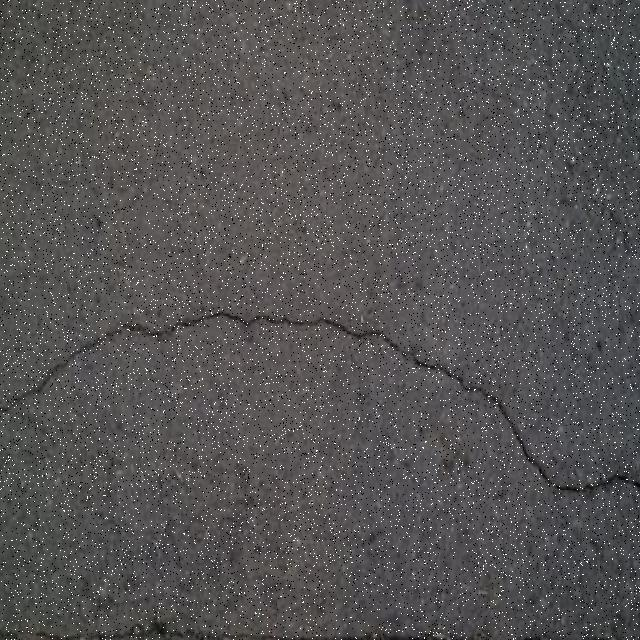minor crack: (3, 305, 635, 496), (325, 404, 474, 476), (487, 394, 576, 484), (562, 469, 629, 492), (122, 318, 190, 338)
moderate crack: (5, 328, 129, 408), (332, 318, 460, 378)
severe crack: (151, 308, 384, 340)
